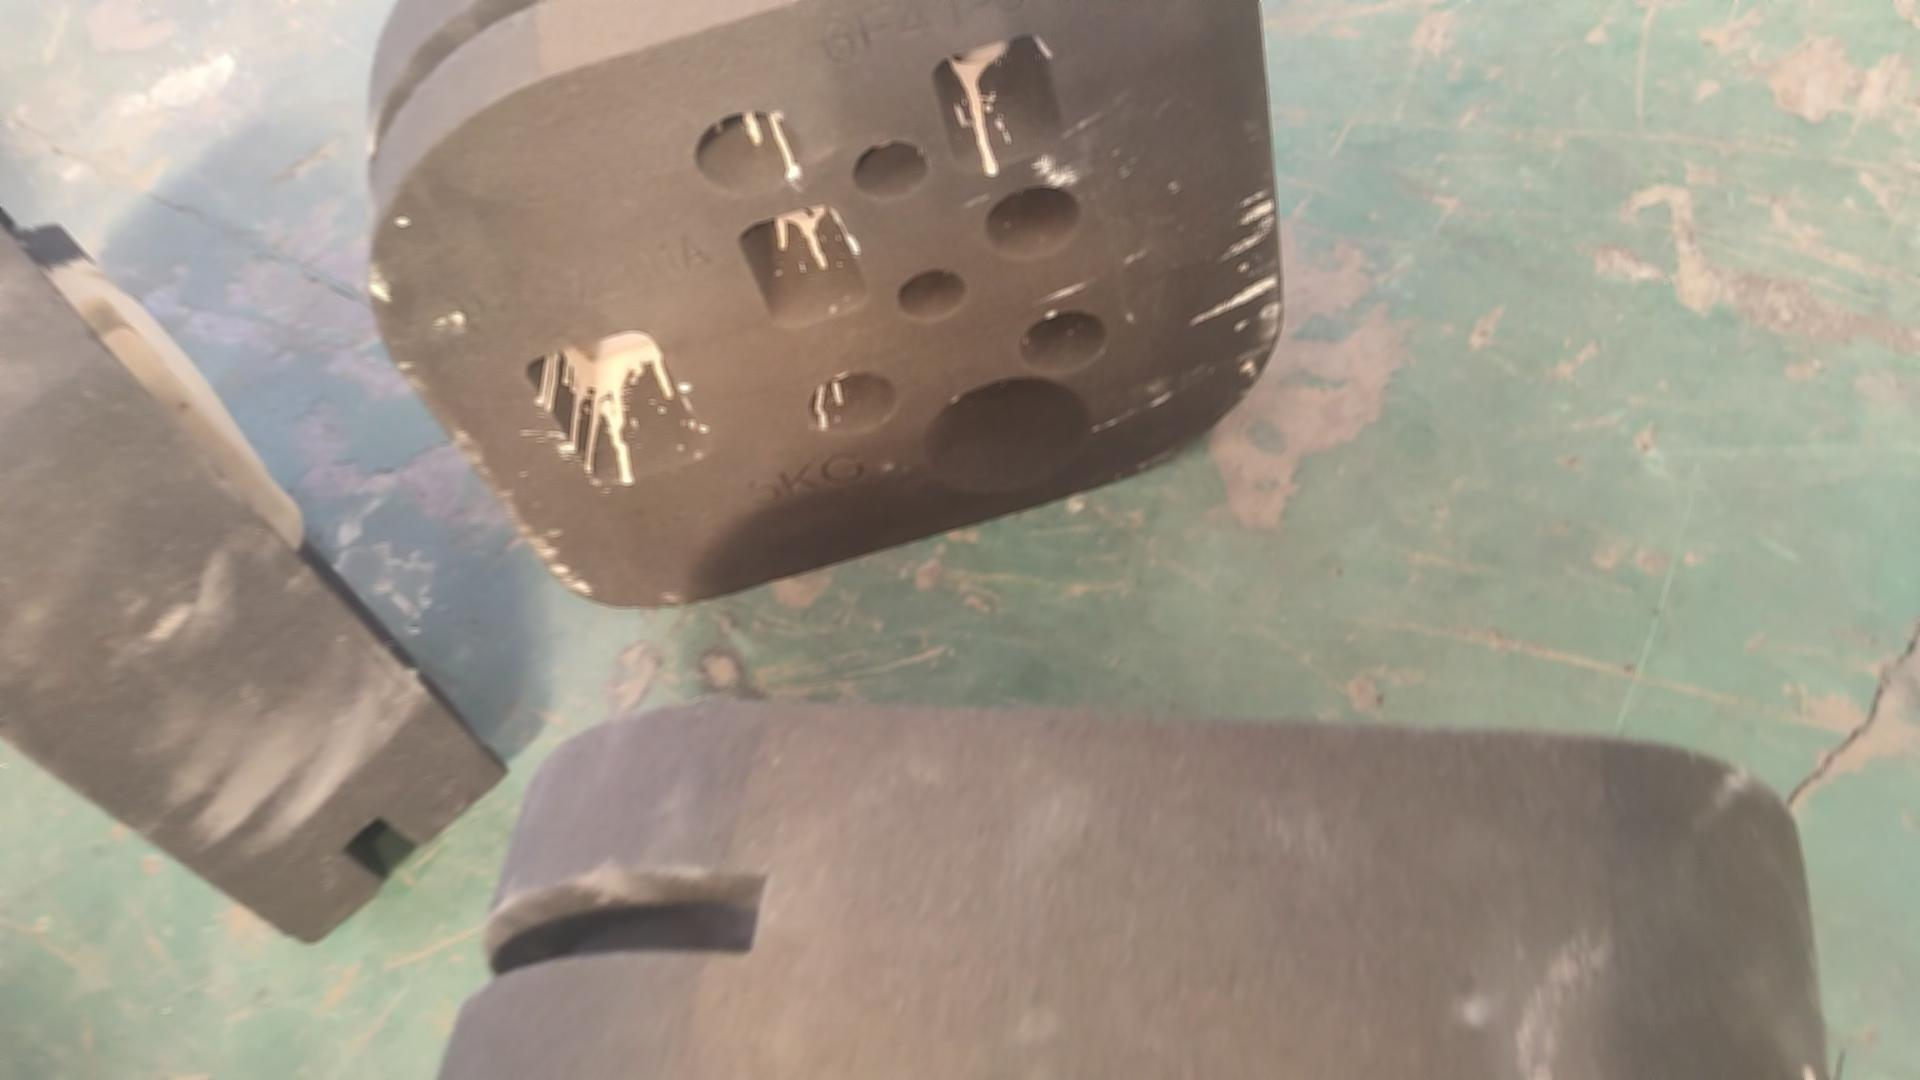pouring hole: (923, 378, 1095, 492)
